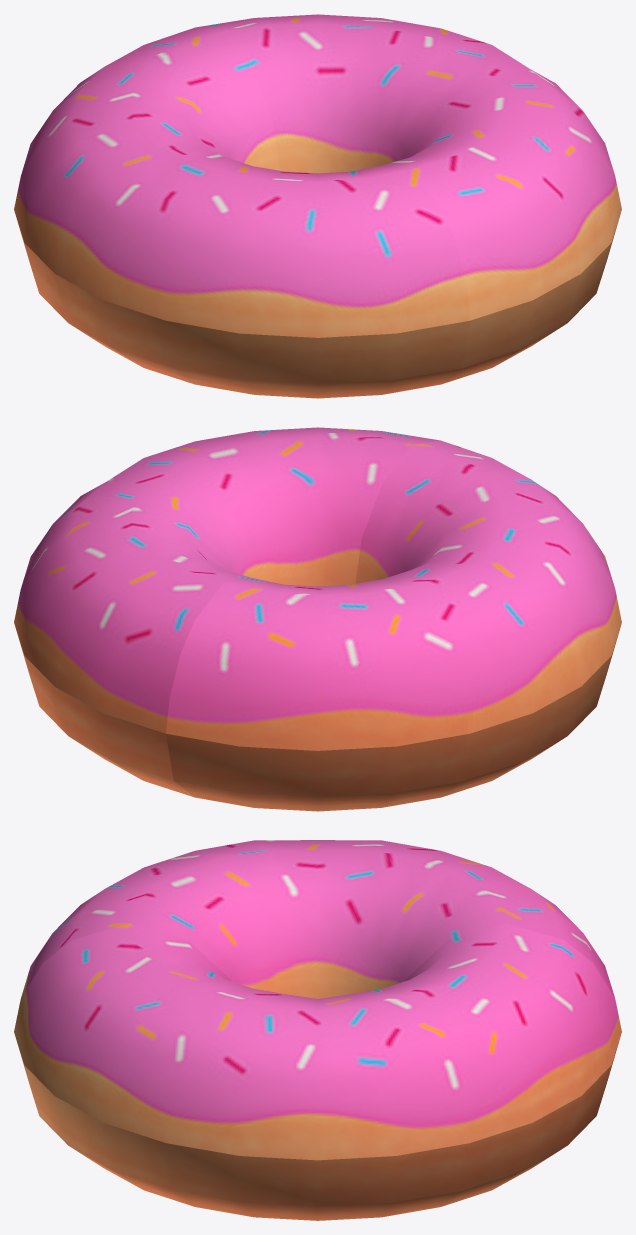
Rendered from SprinkleDonut_1.fbx.
3 renders of one model, top to bottom at view 1: azimuth 30°, elevation 25°; view 2: azimuth 150°, elevation 25°; view 3: azimuth 270°, elevation 25°, orthographic.
Visible parts, largest first — view 1: SprinkleDonut_1; view 2: SprinkleDonut_1; view 3: SprinkleDonut_1.
Part boxes in pixels (bbox=[...]): SprinkleDonut_1: bbox=[14, 14, 621, 398]; SprinkleDonut_1: bbox=[14, 427, 621, 811]; SprinkleDonut_1: bbox=[14, 840, 621, 1220].
Bounding box in the file's own units: 59.06 × 21.18 × 59.06.
1 material, 1 textured.
